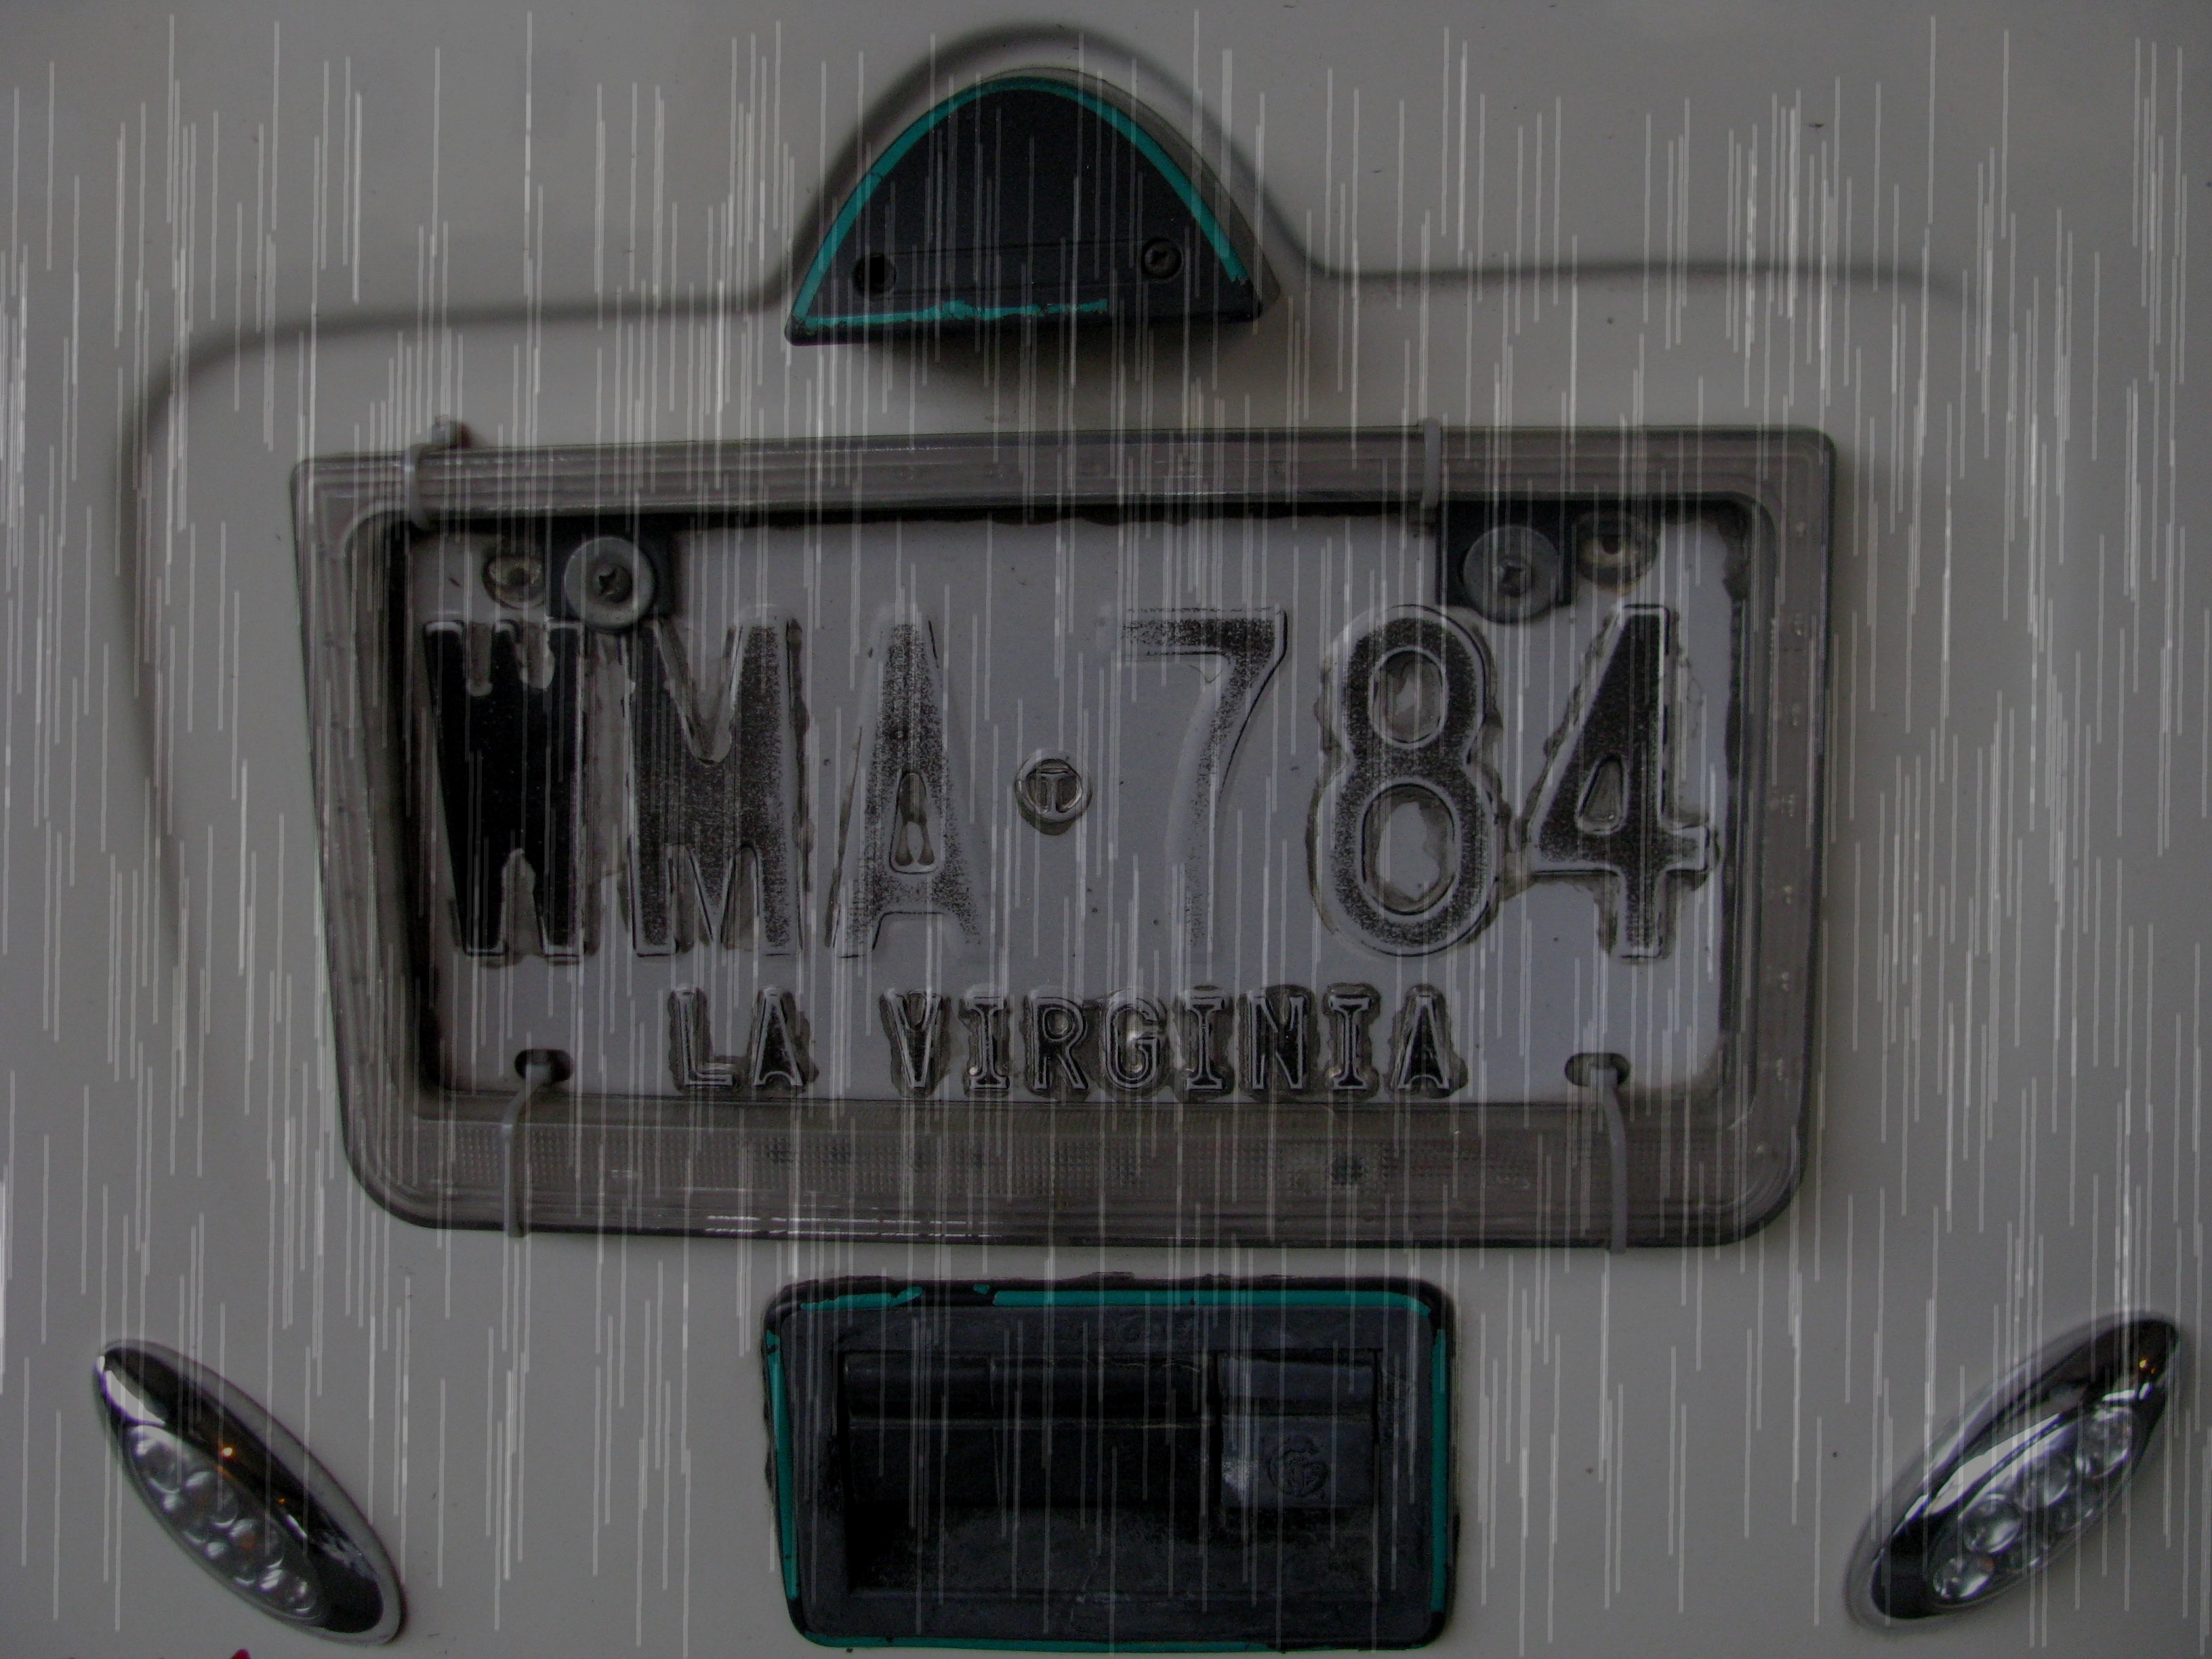placas: (281, 432, 1862, 1241)
